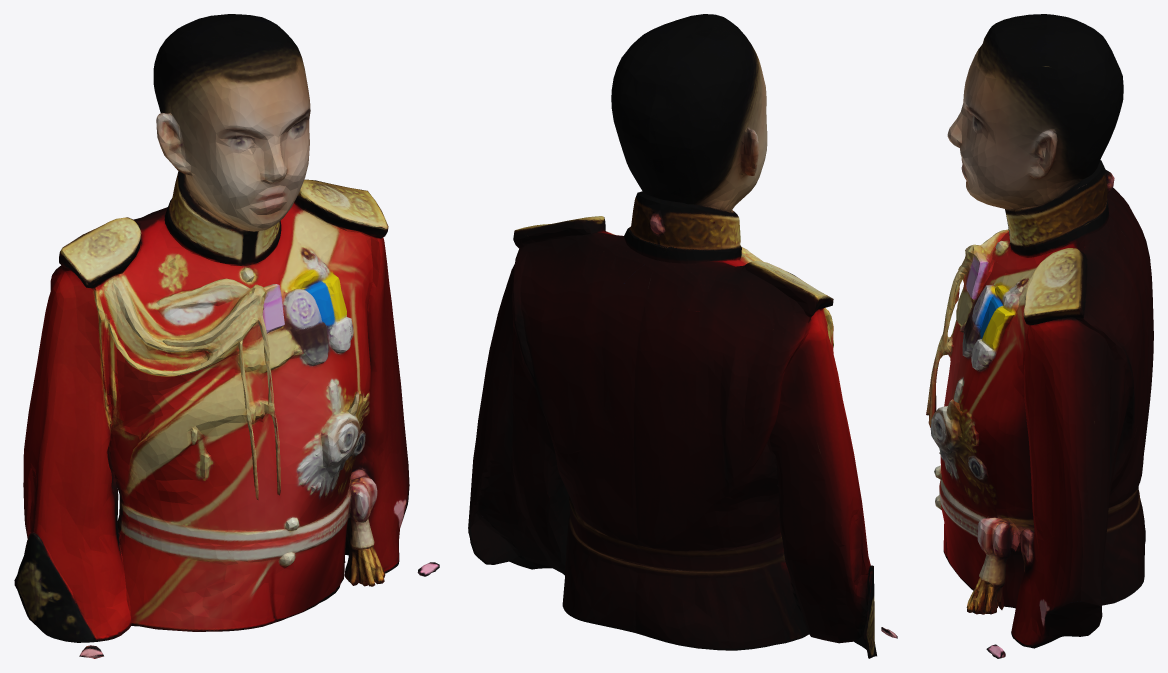
The picture shows the model from 3 angles, left to right: view 1: azimuth 30°, elevation 25°; view 2: azimuth 150°, elevation 25°; view 3: azimuth 270°, elevation 25°; orthographic projection. The views are drawn at different scales.
Visible parts, largest first — view 1: world; view 2: world; view 3: world.
Part boxes in pixels (x1,y1,x2,y2): world: (14,14,439,658); world: (468,14,897,658); world: (926,14,1153,658).
Size of the model in its own units: 0.7095 by 1 by 0.3765.
1 material, 1 textured.
